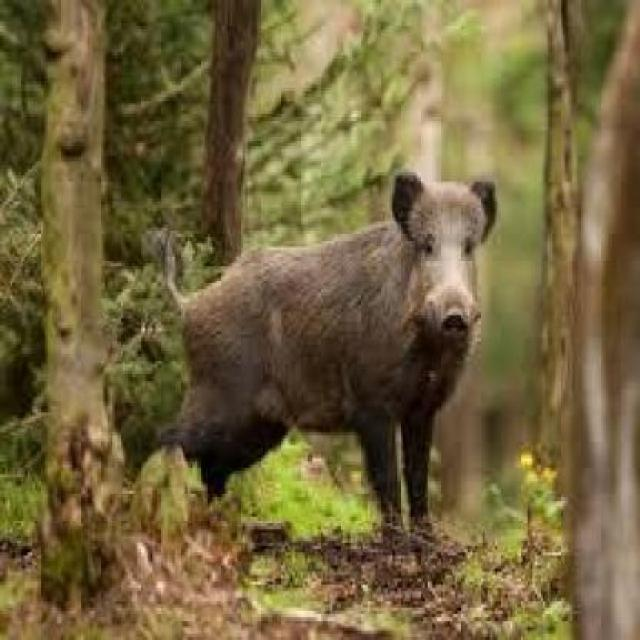wildboar: (151, 166, 507, 549)
